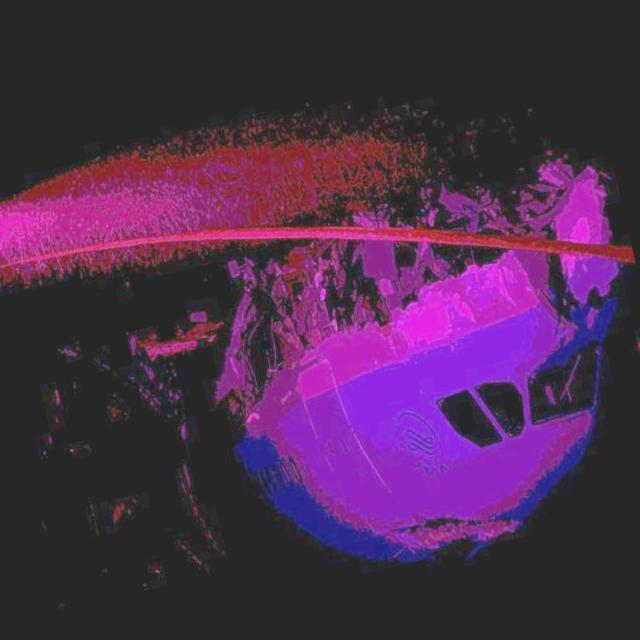crack: (390, 496, 516, 564)
